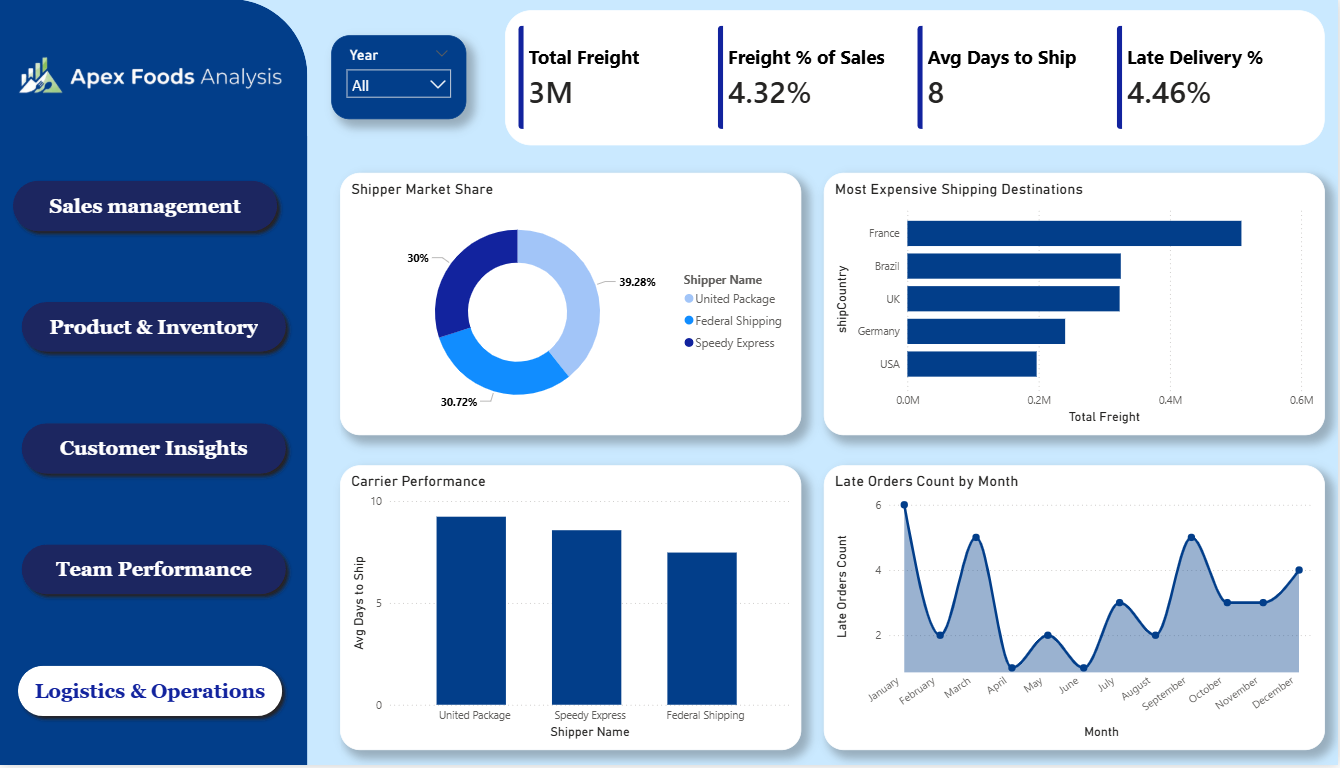

The page's visual inventory and layout, read from the dashboard file:
{"tool":"powerbi","page":{"name":"Logistics & Operations","canvas":[1530,875],"ordinal":4},"visuals":[{"type":"clusteredColumnChart","title":"Carrier Performance","fields":{"Category":["OrdersDim.Shipper Name"],"Y":["Dax_Measures.Avg Days to Ship"]},"box":[388.6,532.9,527.1,325.7],"z":0},{"type":"lineChart","fields":{"Y":["Dax_Measures.Late Orders Count"],"Category":["DateTable.Month","DateTable.Date.Variation.Date Hierarchy.Year","DateTable.Date.Variation.Date Hierarchy.Quarter","DateTable.Date.Variation.Date Hierarchy.Month","DateTable.Date.Variation.Date Hierarchy.Day"]},"box":[941.4,532.9,572.9,325.7],"z":1000},{"type":"clusteredBarChart","title":"Most Expensive Shipping Destinations","fields":{"Category":["OrdersDim.shipCountry"],"Y":["Dax_Measures.Total Freight"]},"box":[941.4,198.6,572.9,300],"z":2000},{"type":"donutChart","title":"Shipper Market Share","fields":{"Category":["OrdersDim.Shipper Name"],"Y":["Dax_Measures.Total Orders"]},"box":[388.6,198.6,527.1,300],"z":3000},{"type":"shape","title":"FlyOut","box":[0,0,351.4,875.7],"z":4000},{"type":"actionButton","title":"Product","box":[11.4,752.9,320,75.7],"z":5000},{"type":"actionButton","title":"Quantity","box":[15.7,614.6,320,75],"z":6000},{"type":"actionButton","title":"Profit","box":[15.7,475.7,320,75.7],"z":7000},{"type":"actionButton","title":"Sales","box":[15.7,337.5,320,75],"z":8000},{"type":"actionButton","title":"KPIs","box":[5.7,198.6,320,75.7],"z":9000},{"type":"cardVisual","fields":{"Data":["Dax_Measures.Total Freight","Dax_Measures.Freight % of Sales","Dax_Measures.Avg Days to Ship","Dax_Measures.Late Delivery %"]},"box":[577.1,12.9,937.1,154.3],"z":10000},{"type":"slicer","fields":{"Values":["DateTable.Year"]},"box":[378.6,41.4,154.3,95.7],"z":11000},{"type":"image","box":[16.7,28.3,308.3,116.7],"z":12000}]}

Visuals, with their boxes in screenshot pixels (x1, y1, x2, y2), scaled from the page's 1530x875 canvas onto the 1340x768 screenshot:
"Carrier Performance" clusteredColumnChart: region(340, 468, 802, 754)
lineChart - Dax_Measures.Late Orders Count x DateTable.Month: region(824, 468, 1326, 754)
"Most Expensive Shipping Destinations" clusteredBarChart: region(824, 174, 1326, 438)
"Shipper Market Share" donutChart: region(340, 174, 802, 438)
"FlyOut" shape: region(0, 0, 308, 767)
"Product" actionButton: region(10, 661, 290, 727)
"Quantity" actionButton: region(14, 539, 294, 605)
"Profit" actionButton: region(14, 418, 294, 484)
"Sales" actionButton: region(14, 296, 294, 362)
"KPIs" actionButton: region(5, 174, 285, 241)
cardVisual - Dax_Measures.Total Freight x Dax_Measures.Freight % of Sales: region(505, 11, 1326, 147)
slicer - DateTable.Year: region(332, 36, 467, 120)
image: region(15, 25, 285, 127)
